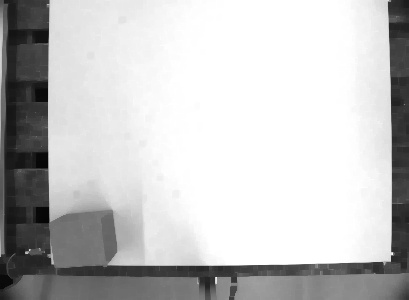b5: (46, 209, 119, 269)
